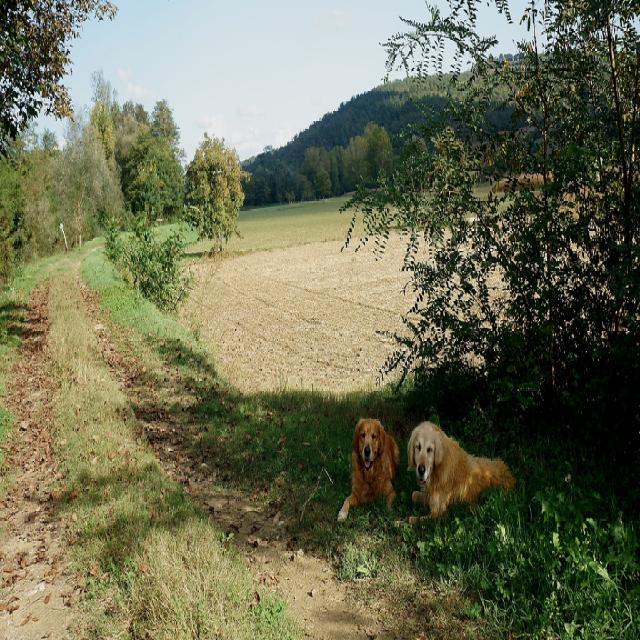Dog: (404, 418, 517, 526), (336, 417, 402, 523)
